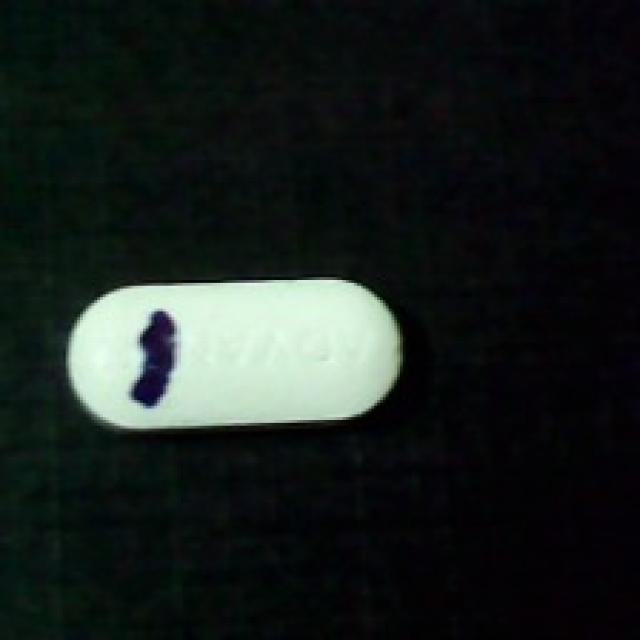defected: (60, 274, 409, 440)
